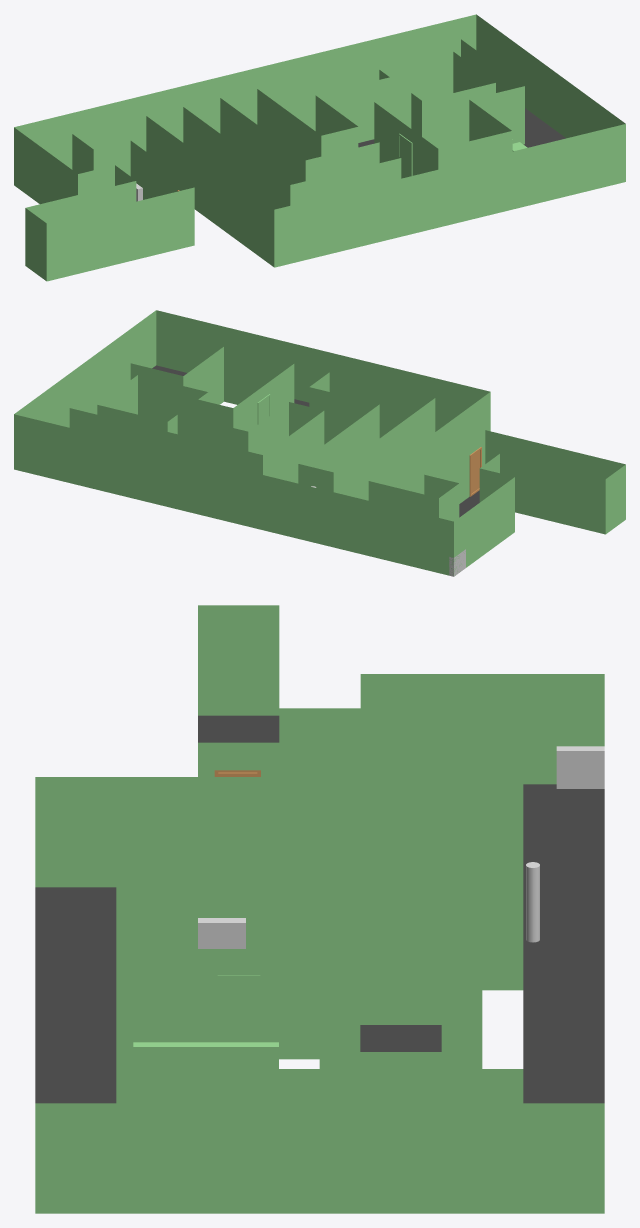
Rendered from corridor4.dae.
3 views of the same model, one above another, from view 1: azimuth 30°, elevation 25°; view 2: azimuth 150°, elevation 25°; view 3: azimuth 270°, elevation 25° (orthographic). The views are drawn at different scales.
Visible parts, largest first — view 1: Wall, Floor, Door; view 2: Wall, any, Floor, Door.001; view 3: Wall, Floor, any, Door, Radiator.002, Radiator.001, Hang.
Part boxes in pixels (bbox=[...]): Wall: bbox=[14, 14, 625, 281]; Floor: bbox=[358, 108, 565, 147]; Door: bbox=[399, 133, 412, 178]; Wall: bbox=[14, 310, 625, 575]; any: bbox=[186, 362, 219, 404]; Floor: bbox=[152, 365, 479, 517]; Door.001: bbox=[469, 447, 481, 496]; Wall: bbox=[35, 605, 604, 1213]; Floor: bbox=[35, 715, 604, 1103]; any: bbox=[133, 1042, 278, 1103]; Door: bbox=[214, 973, 263, 1017]; Radiator.002: bbox=[556, 746, 604, 788]; Radiator.001: bbox=[198, 918, 245, 948]; Hang: bbox=[526, 862, 539, 942].
Size of the model in its own units: 29 by 14 by 3.
